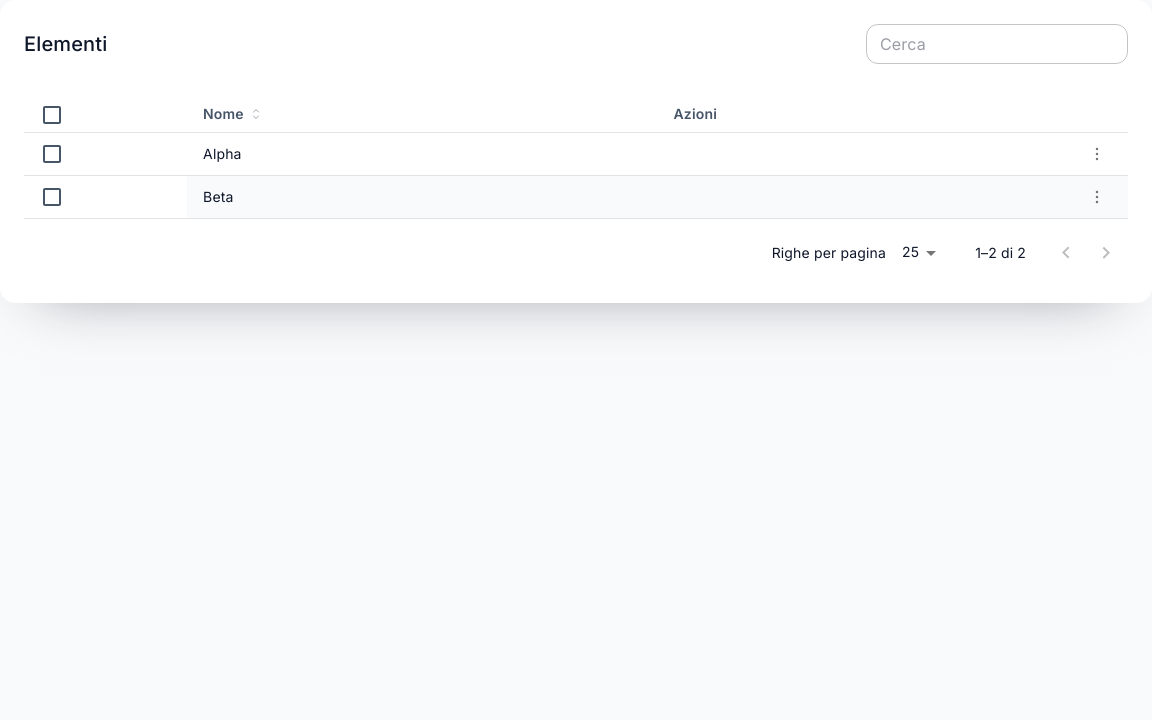
Test case: ListPage bulk selection › bulk-edits the chosen field across selected rows with full per-row payload
Expected: the text "Alpha" is shown, [187,132,658,176]
Click the checkbox named "Seleziona tutte le righe": (52, 115) [40,103,64,127]
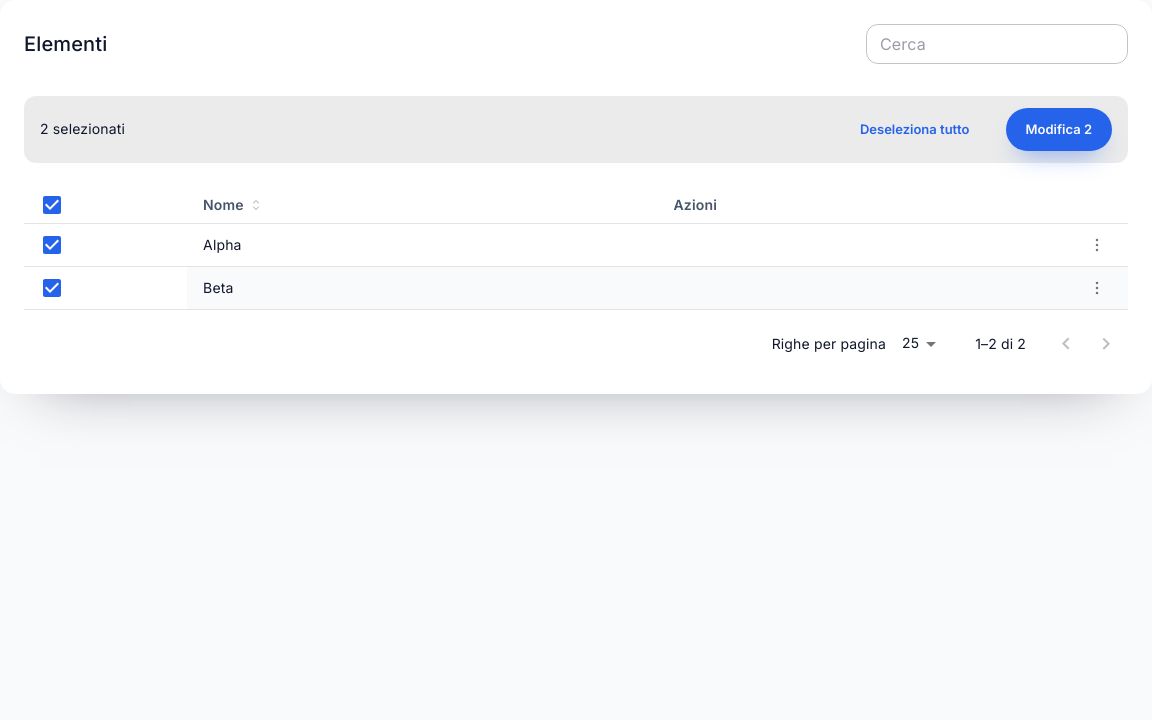
Expected: the text "2 selezionati" is shown, [40,118,125,141]
Click the button "Modifica 2": (1059, 129) [1006,108,1112,151]
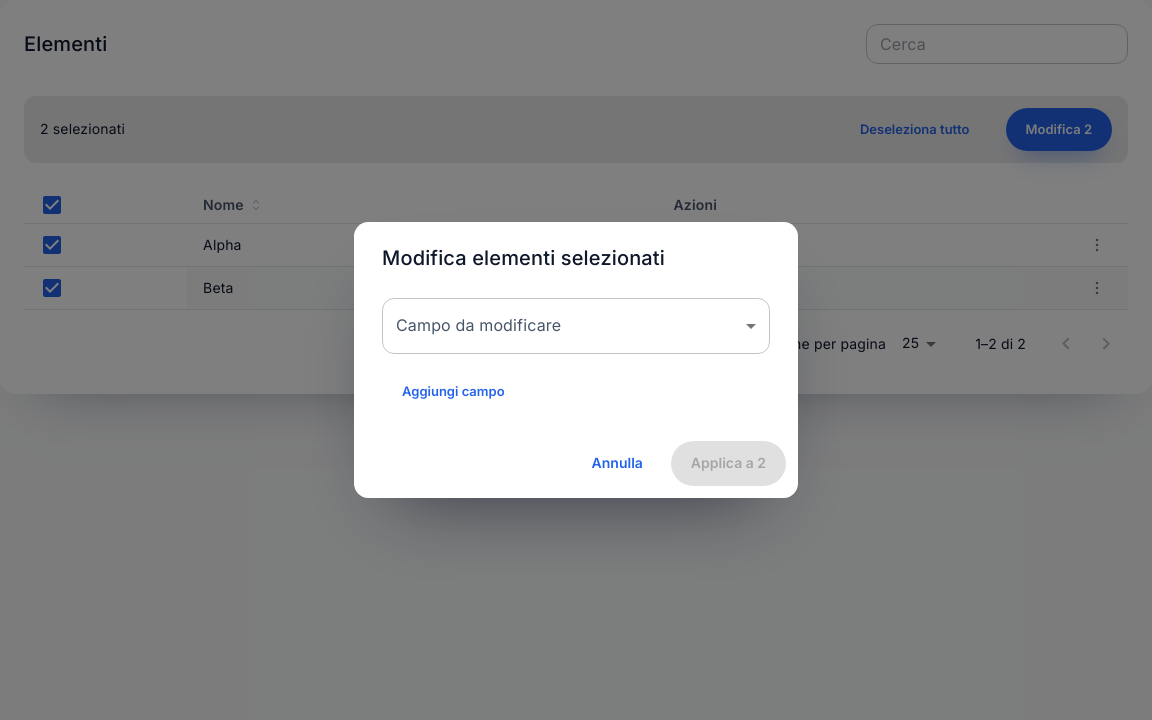
Click the dropdown named "Campo da modificare": (576, 326) [382,298,770,354]
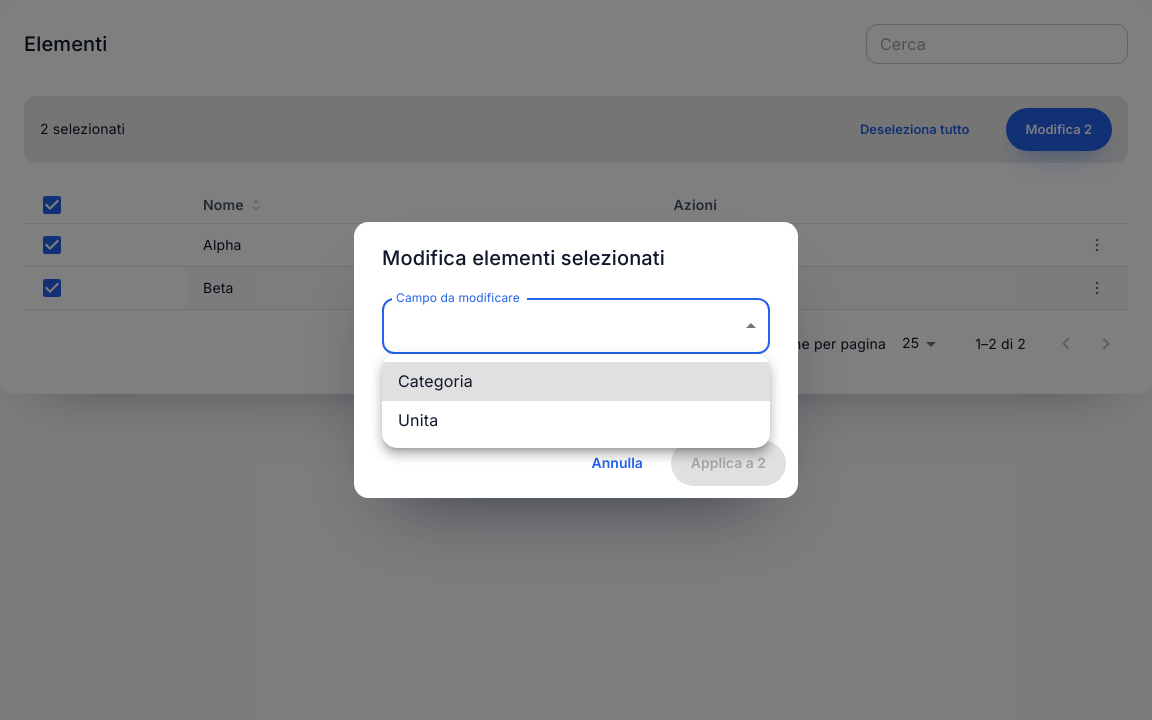
Click the option "Categoria": (435, 381) [382,362,770,401]
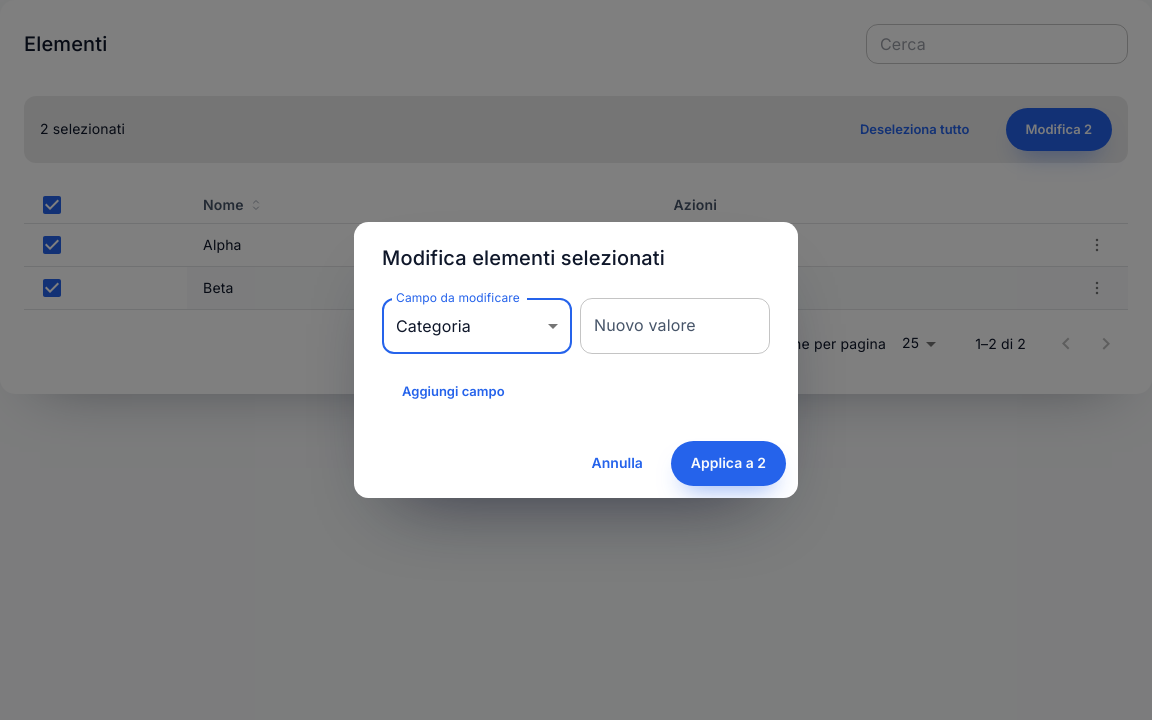
In the field labelled "Nuovo valore": (675, 326) [580,298,770,354], type "Z"
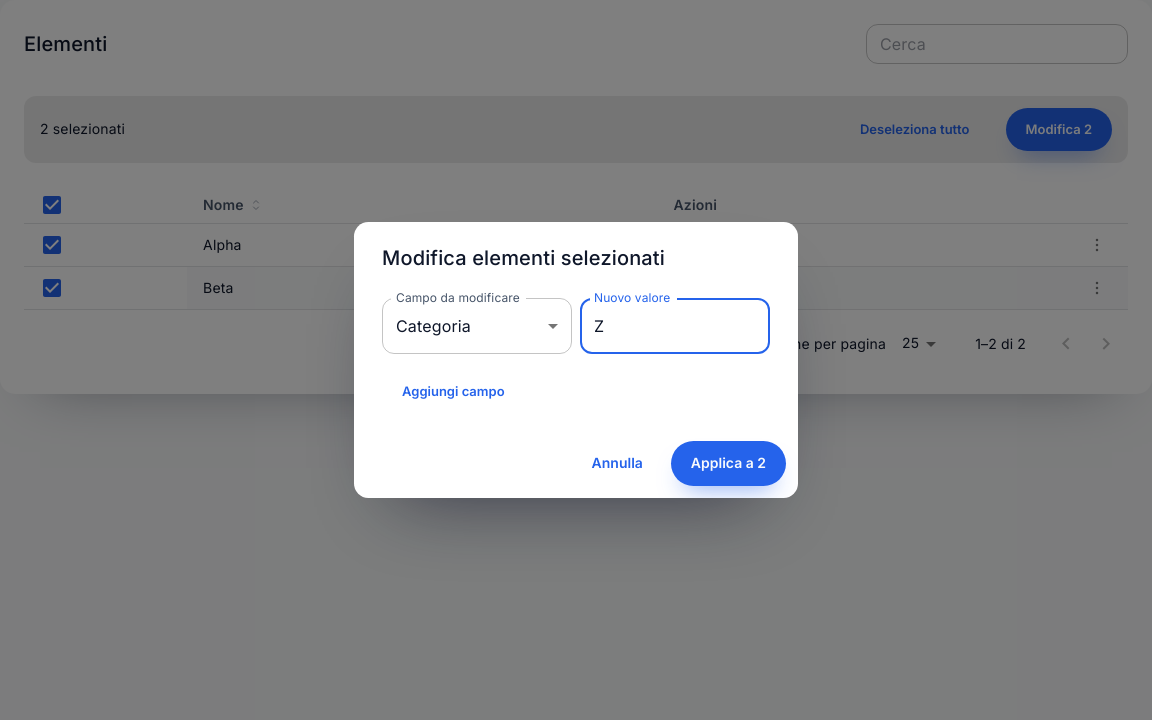
Click the button "Applica a 2": (728, 463) [671,441,786,486]
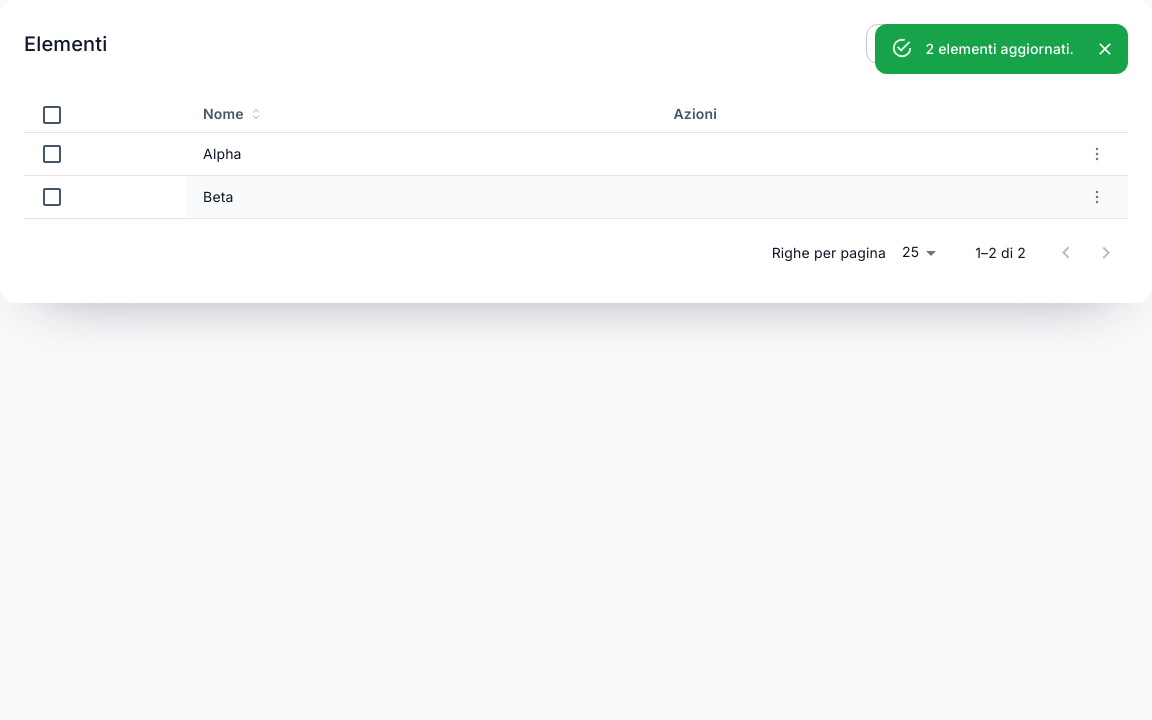
Expected: the text "2 elementi aggiornati." is shown, [926,40,1074,57]
